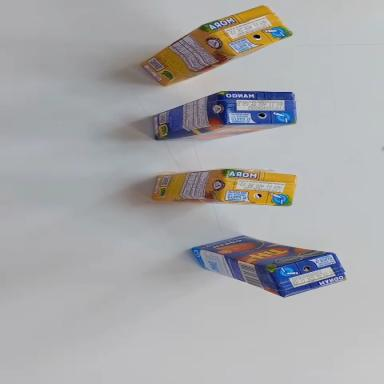HIT-MANGO: (187, 227, 350, 308), (148, 79, 298, 150)
HIT-MORA: (136, 0, 292, 94), (153, 163, 296, 212)
cara_F: (194, 227, 332, 280), (158, 112, 294, 149)
